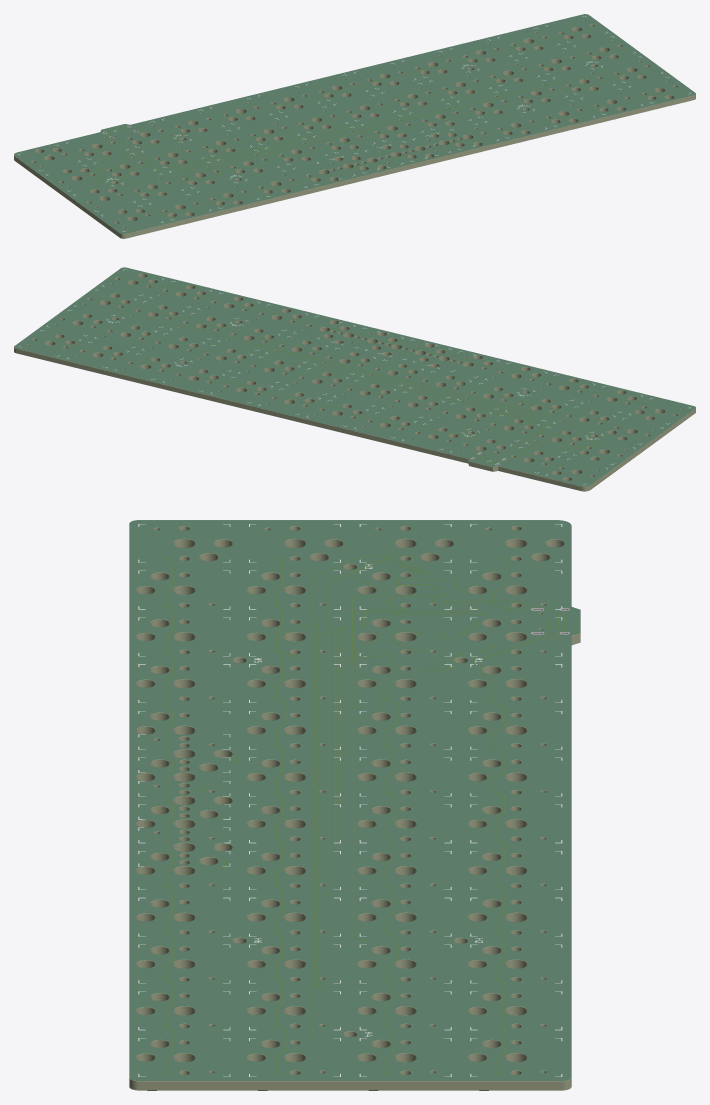
The model's file is board.glb.
3 renders of one model, top to bottom at view 1: azimuth 30°, elevation 25°; view 2: azimuth 150°, elevation 25°; view 3: azimuth 270°, elevation 25°, orthographic. The views are drawn at different scales.
Parts seen in each view (by area): view 1: board_PCB, board_soldermask, board_silkscreen; view 2: board_PCB, board_soldermask, board_silkscreen; view 3: board_PCB, board_soldermask, board_copper, board_silkscreen.
Boxes of the visible parts, x1,y1,x2,y2 form: board_PCB: (14, 15, 695, 238); board_soldermask: (14, 14, 695, 233); board_silkscreen: (18, 16, 690, 231); board_PCB: (14, 268, 695, 491); board_soldermask: (14, 267, 695, 486); board_silkscreen: (19, 269, 690, 484); board_PCB: (129, 521, 580, 1090); board_soldermask: (129, 520, 580, 1080); board_copper: (164, 555, 564, 1073); board_silkscreen: (138, 524, 562, 1076).
Bounding box in the file's own units: 0.204 × 0.00278 × 0.0694.
